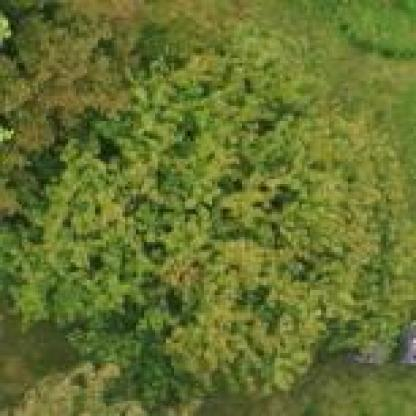Deciduous Tree: (11, 49, 416, 392), (0, 0, 163, 131), (0, 358, 201, 416)
